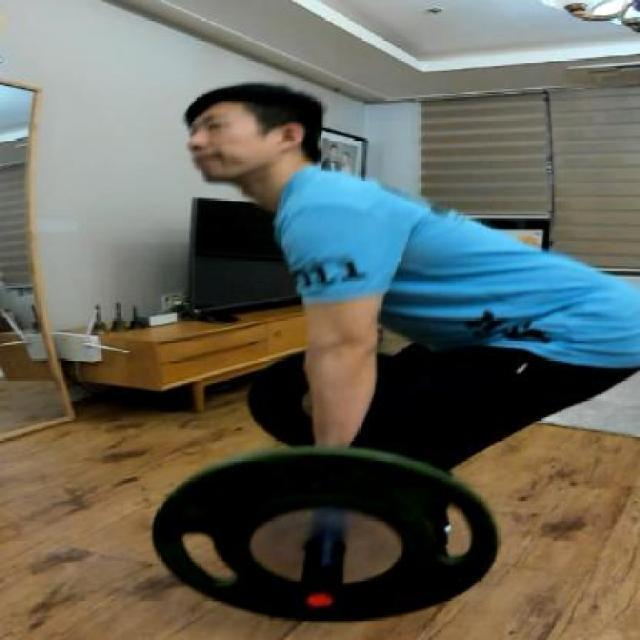barbell: (141, 440, 507, 634)
